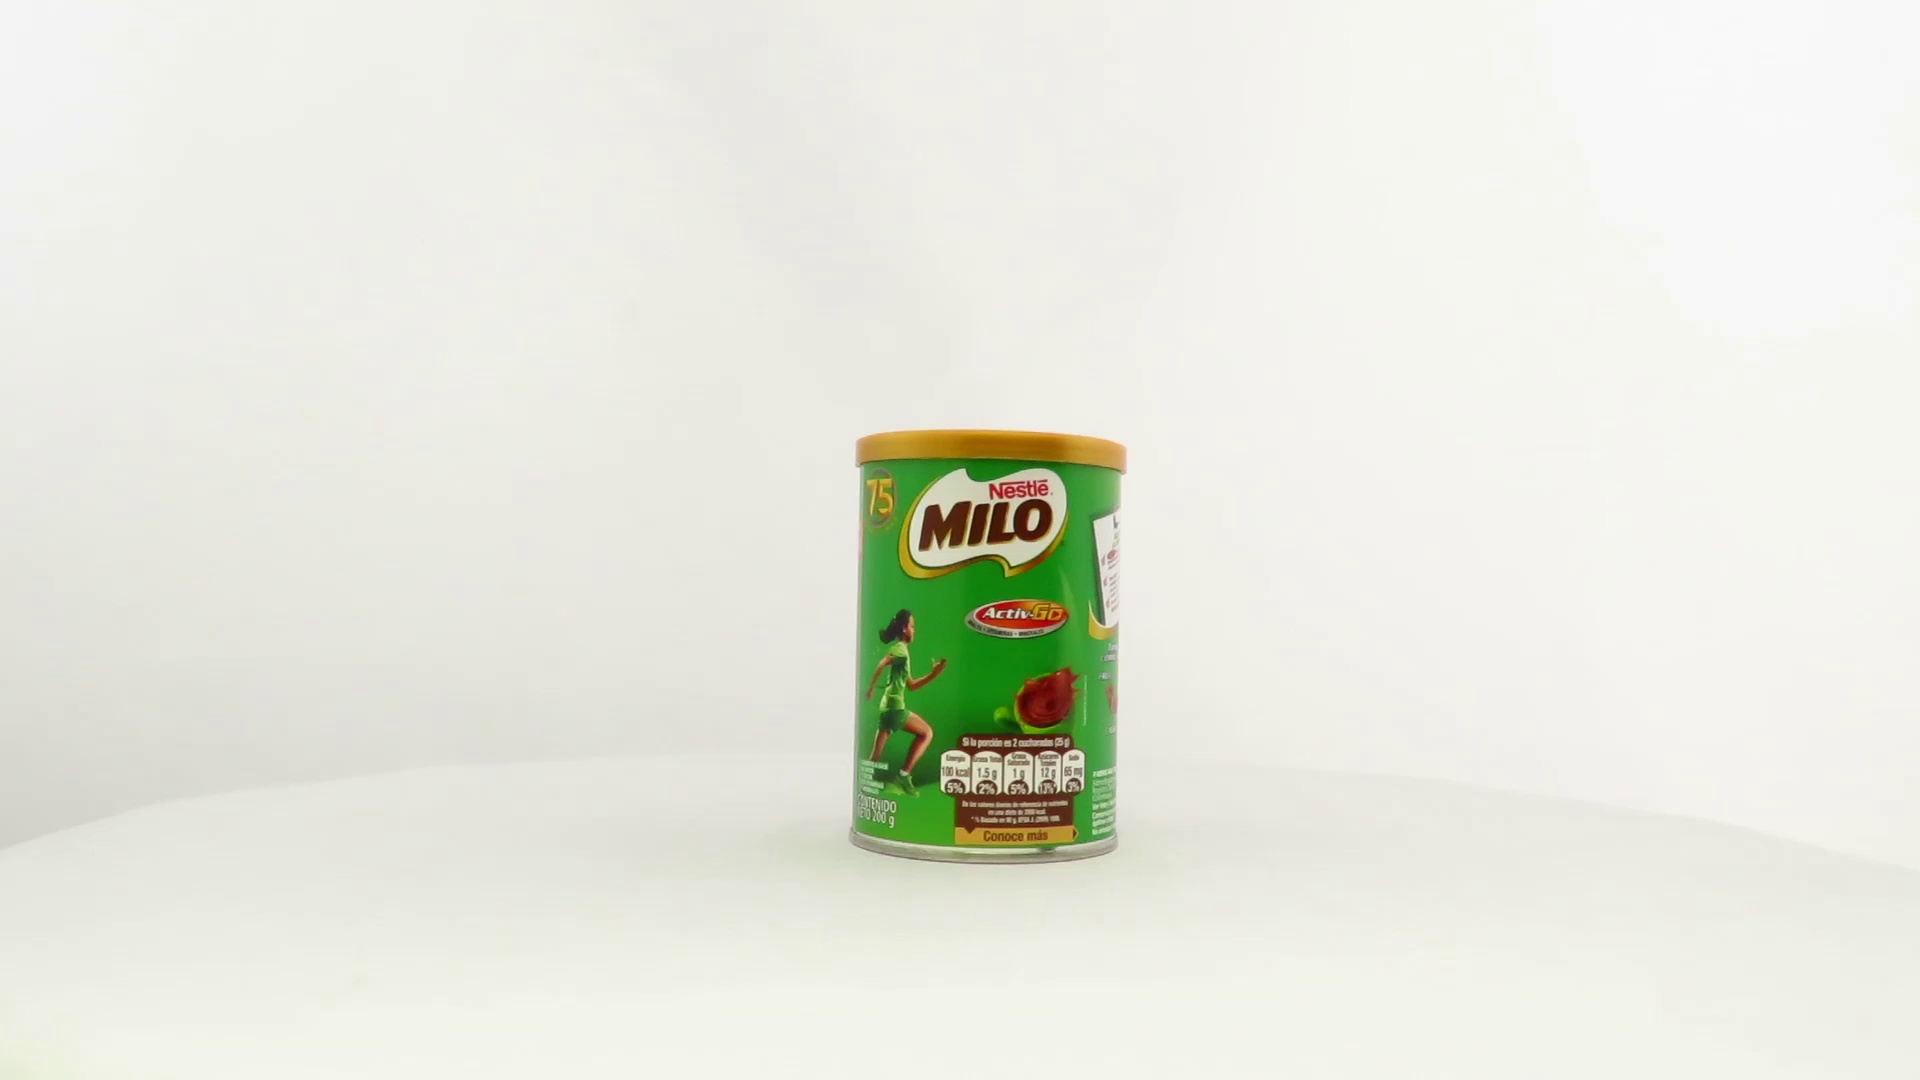COL0170203LAT20000: (843, 425, 1133, 872)
